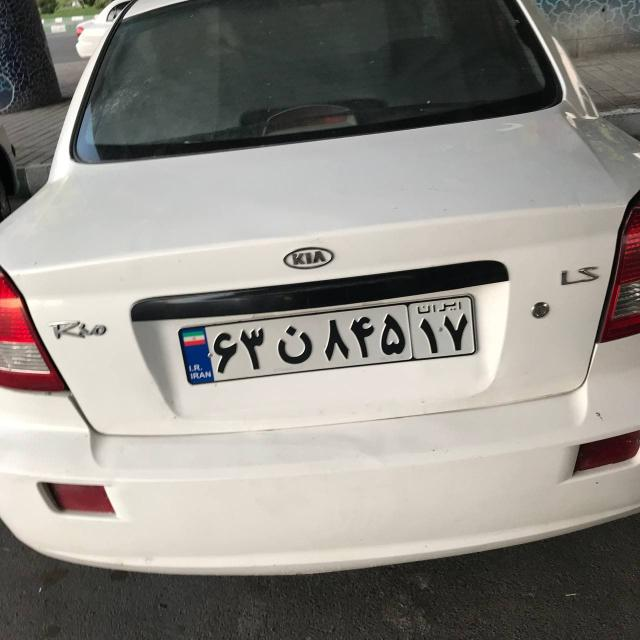Plates: (180, 297, 476, 386)
